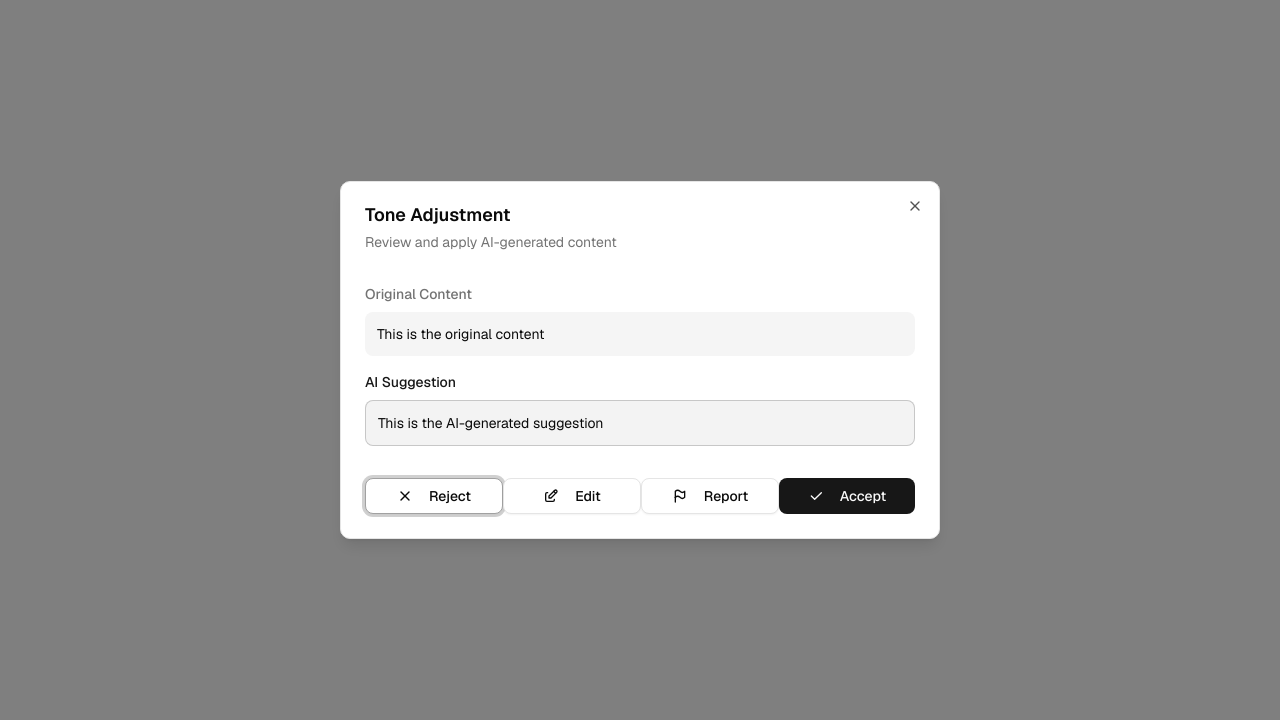
Scenario: AISuggestionPanel › Action Buttons › should enable Edit mode when Edit button is clicked
Click the button "Edit" at (572, 496), box left=503, top=478, right=641, bottom=514
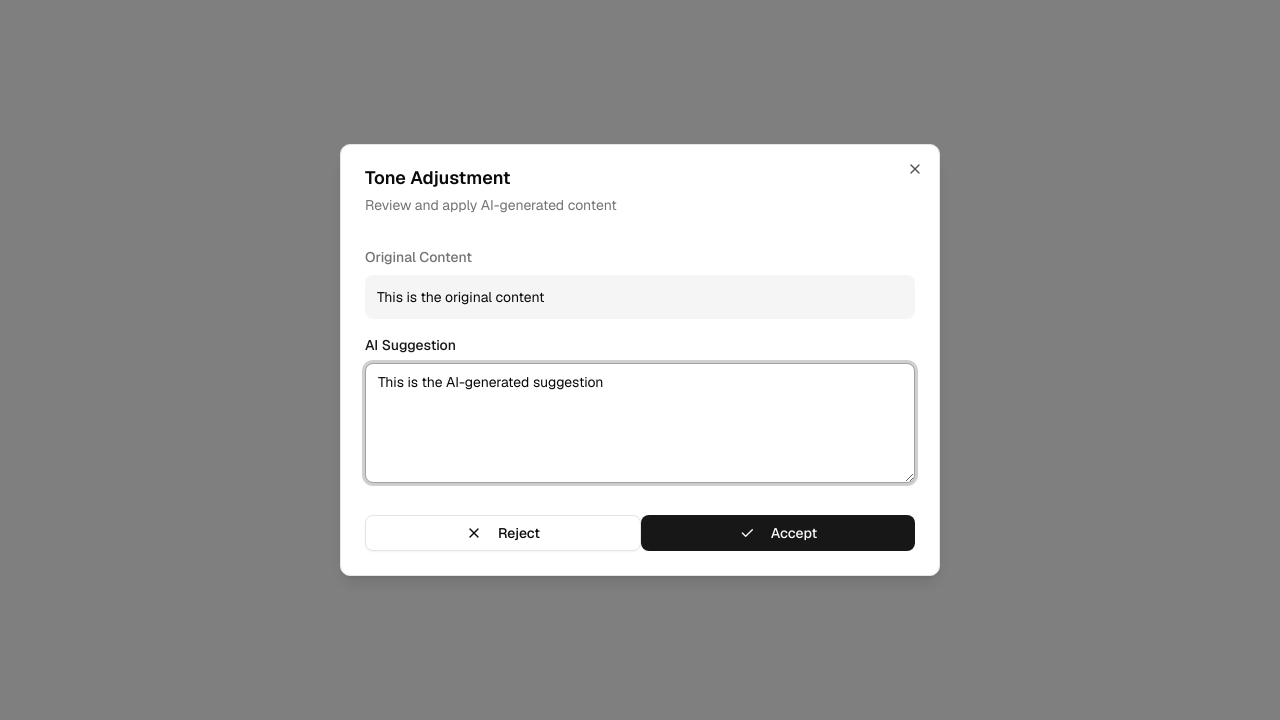
Now the text box named "Edit AI suggestion" holds "This is the AI-generated suggestion", box left=365, top=363, right=915, bottom=483
